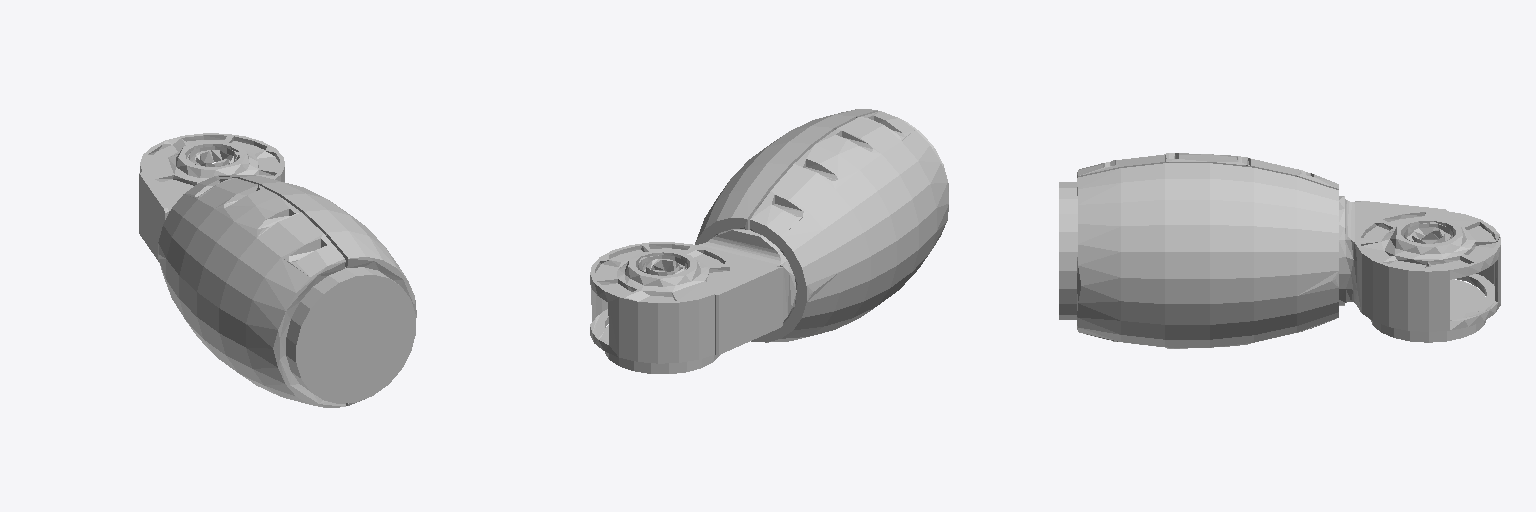
File: va_left_upper_arm.stl.obj
The picture shows the model from 3 angles: view 1: azimuth 30°, elevation 25°; view 2: azimuth 150°, elevation 25°; view 3: azimuth 270°, elevation 25°; orthographic projection.
Visible parts, largest first — view 1: <STL_BINARY>; view 2: <STL_BINARY>; view 3: <STL_BINARY>.
Boxes of the visible parts, <box> form: <STL_BINARY>: <box>139,133,416,407</box>; <STL_BINARY>: <box>590,109,948,373</box>; <STL_BINARY>: <box>1059,153,1500,348</box>.
Size of the model in its own units: 0.137 by 0.1234 by 0.2789.